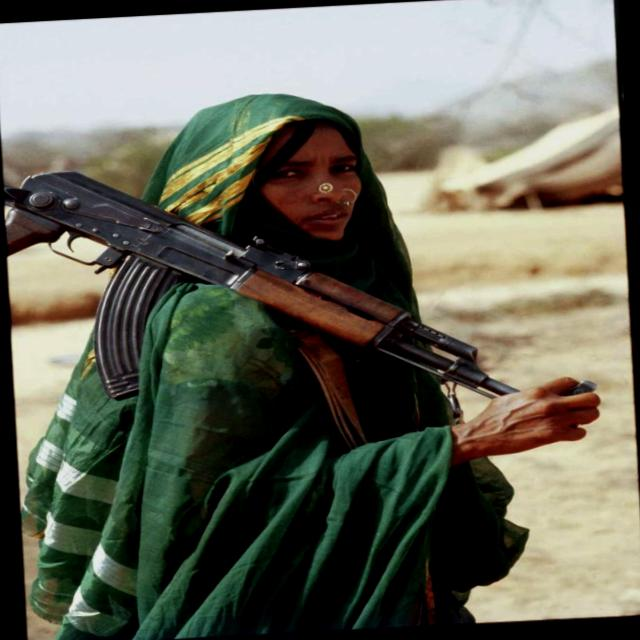ak: (11, 71, 629, 418)
